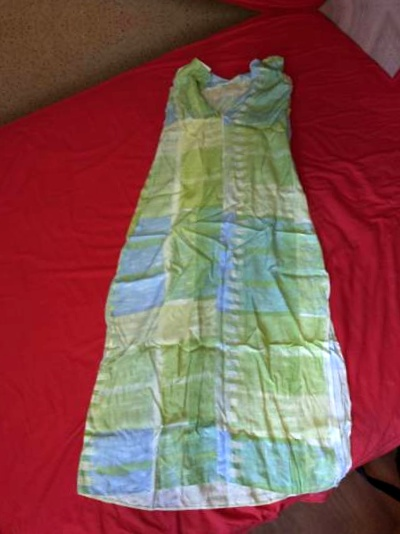Dress: (19, 31, 391, 532), (0, 0, 358, 3)
